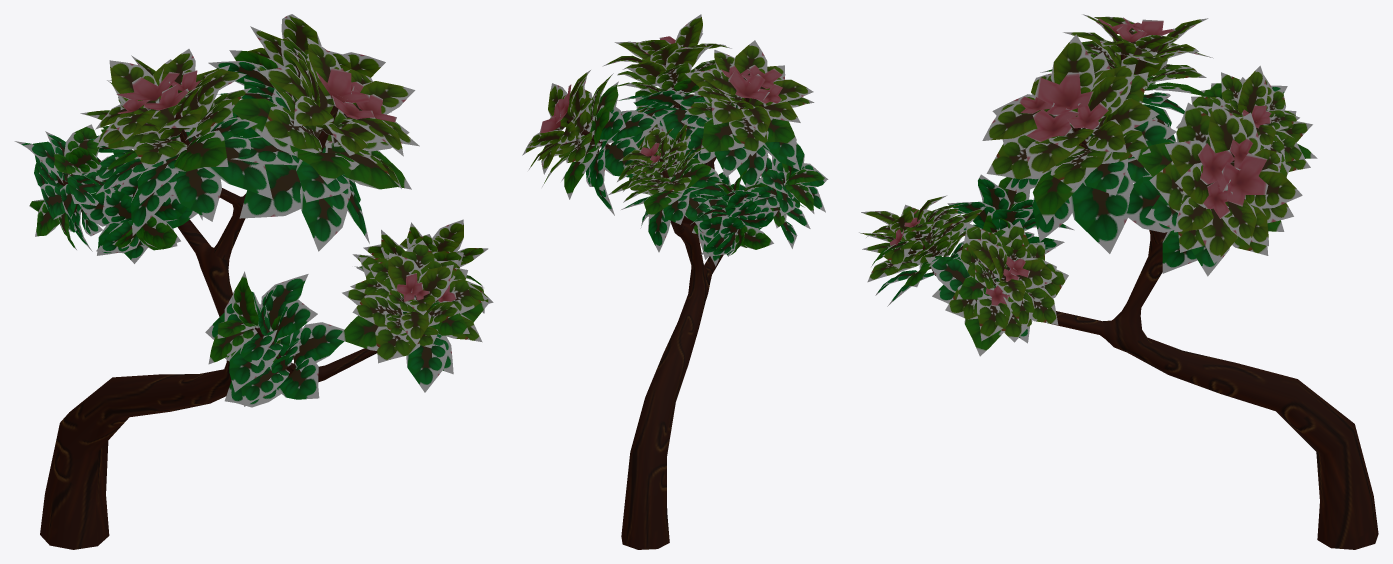
The model's file is Town_Trees_DarkGreen_1.glb.
3 views of the same model, side by side, from view 1: azimuth 30°, elevation 25°; view 2: azimuth 150°, elevation 25°; view 3: azimuth 270°, elevation 25° (orthographic). The views are drawn at different scales.
Visible parts, largest first — view 1: Object_38.001; view 2: Object_38.001; view 3: Object_38.001.
Part boxes in pixels (x1,y1,x2,y2): Object_38.001: (14,14,493,549); Object_38.001: (522,14,828,549); Object_38.001: (859,14,1378,549).
Size of the model in its own units: 69.33 by 116 by 103.
